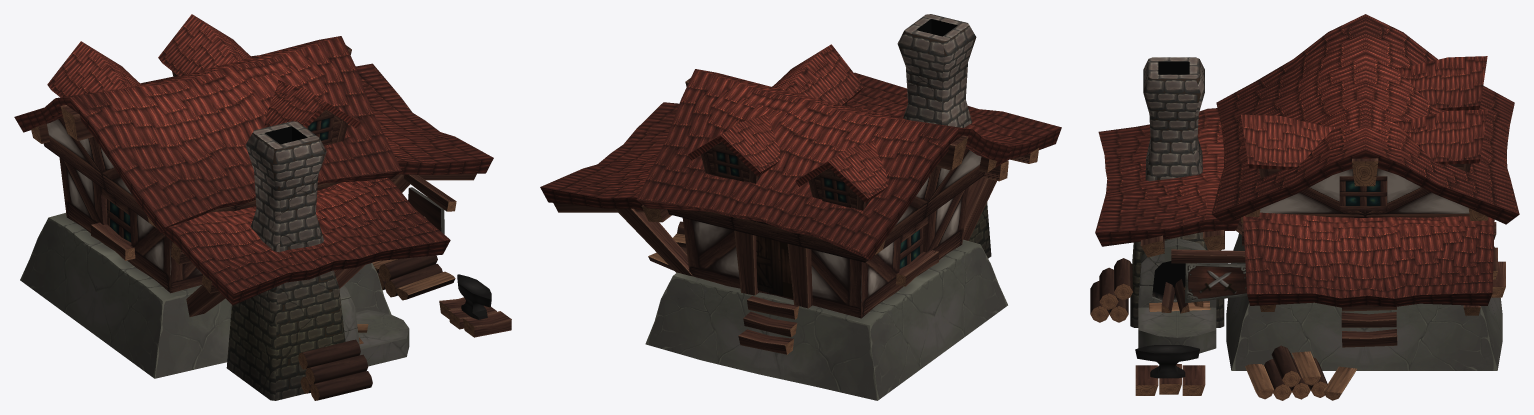
File: HomeBlacksmitch.FBX
The picture shows the model from 3 angles, left to right: view 1: azimuth 30°, elevation 25°; view 2: azimuth 150°, elevation 25°; view 3: azimuth 270°, elevation 25°; orthographic projection. The views are drawn at different scales.
Visible parts, largest first — view 1: Box038, Box035, Box064, Box040, Box036, Box037, Box063, Box065, Box039; view 2: Box038, Box035, Box036, Box037, Box040, Box064, Box039, Box042; view 3: Box038, Box035, Box040, Box065, Box064, Box037, Box063, Box036, Box039.
Part boxes in pixels (box(x1,y1,x2,y2)): Box038: box(14, 36, 493, 305); Box035: box(20, 213, 391, 378); Box064: box(226, 121, 345, 400); Box040: box(47, 14, 360, 145); Box036: box(43, 117, 340, 293); Box037: box(31, 45, 511, 337); Box063: box(298, 255, 455, 400); Box065: box(339, 187, 491, 366); Box039: box(107, 114, 334, 242); Box038: box(540, 69, 1061, 260); Box035: box(645, 239, 1007, 400); Box036: box(667, 148, 984, 318); Box037: box(553, 78, 1038, 354); Box040: box(688, 44, 888, 210); Box064: box(897, 14, 991, 258); Box039: box(712, 147, 923, 268); Box042: box(756, 236, 793, 298); Box038: box(1095, 14, 1519, 307); Box035: box(1226, 233, 1502, 370); Box040: box(1241, 56, 1487, 178); Box065: box(1135, 238, 1247, 378); Box064: box(1130, 57, 1224, 327); Box037: box(1135, 158, 1505, 395); Box063: box(1090, 258, 1356, 400); Box036: box(1260, 168, 1469, 217); Box039: box(1339, 164, 1471, 210).
Size of the model in its own units: 107 by 66.8 by 109.
